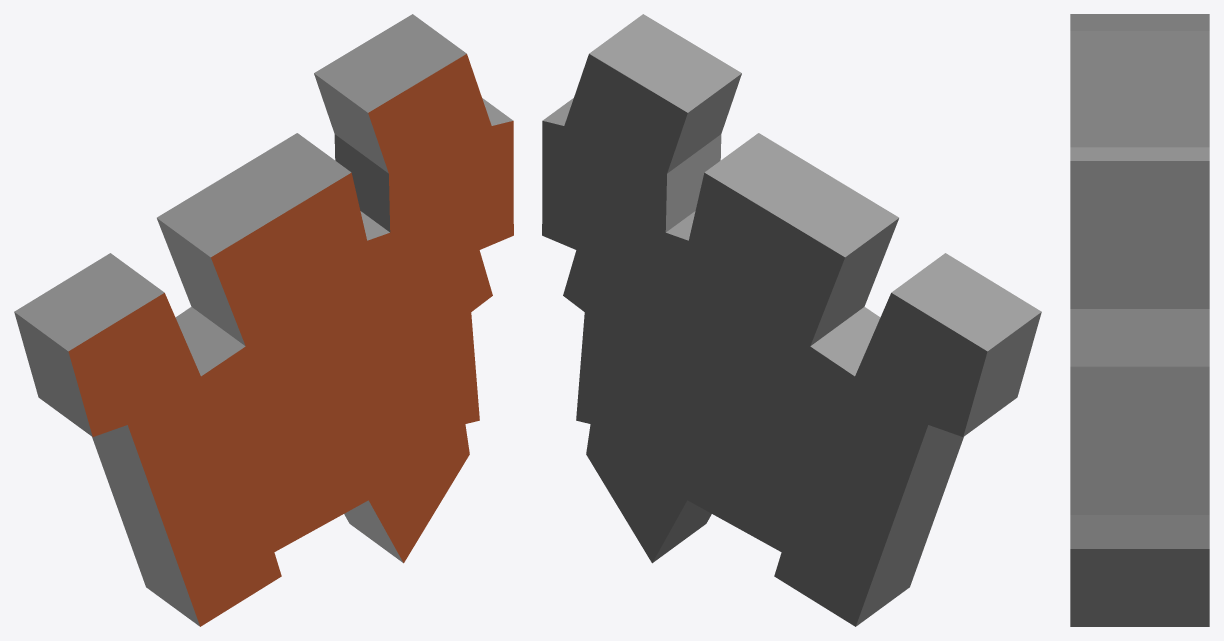
The model's file is construction_5510_assumed_A_Casa_h6m.obj.
3 views of the same model, side by side, from view 1: azimuth 30°, elevation 25°; view 2: azimuth 150°, elevation 25°; view 3: azimuth 270°, elevation 25° (orthographic). The views are drawn at different scales.
Parts seen in each view (by area): view 1: construction_5510_assumed_A_Casa; view 2: construction_5510_assumed_A_Casa; view 3: construction_5510_assumed_A_Casa.
Boxes of the visible parts, bbox=[...] form: construction_5510_assumed_A_Casa: bbox=[14, 14, 513, 626]; construction_5510_assumed_A_Casa: bbox=[542, 14, 1041, 626]; construction_5510_assumed_A_Casa: bbox=[1070, 14, 1209, 626].
Size of the model in its own units: 28.43 by 30.99 by 6.
